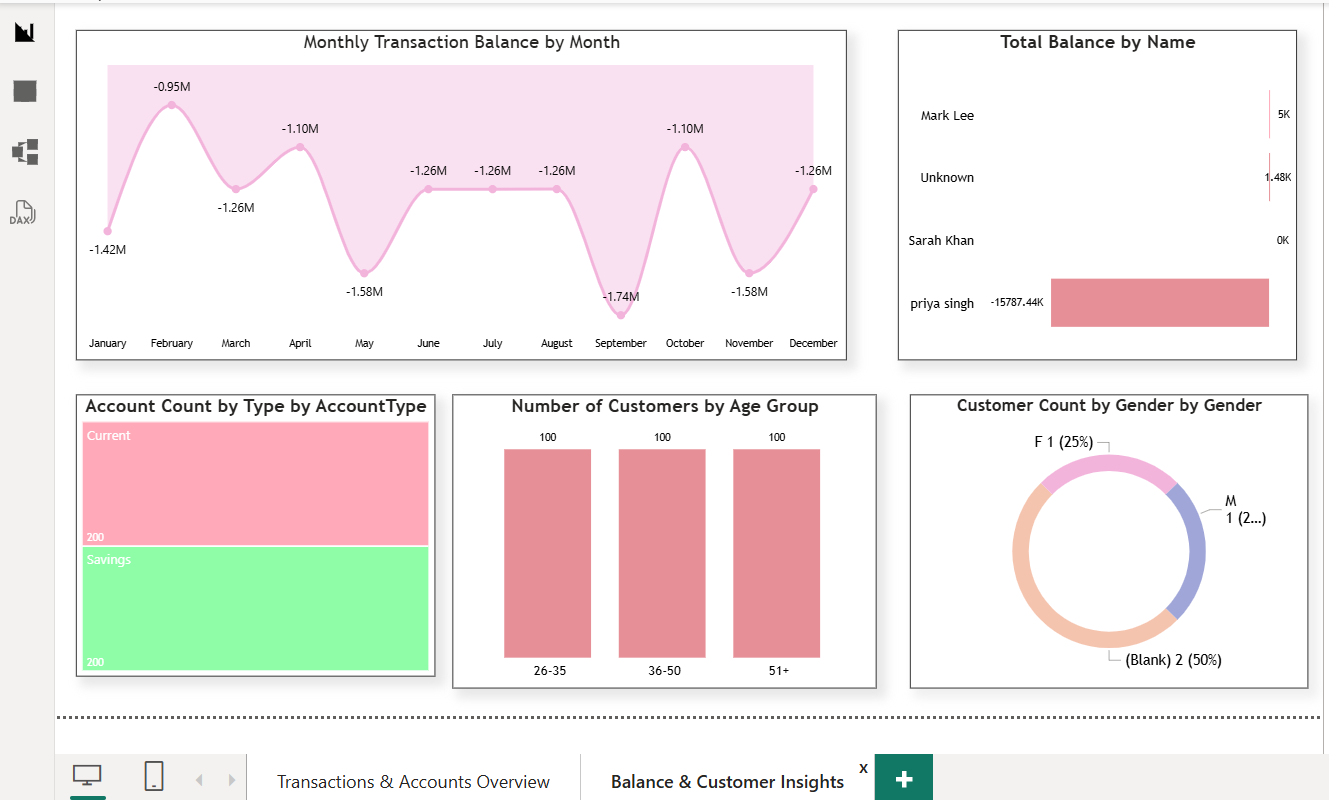

Layout of this report page (visuals, bound fields, positions):
{"tool":"powerbi","page":{"name":"Balance & Customer Insights","canvas":[1280,720],"ordinal":1},"visuals":[{"type":"donutChart","fields":{"Y":["Measures Table (2).Customer Count by Gender"],"Category":["CombinedBankingDataset.Gender"]},"box":[863.7,394.6,401.9,296.7],"z":0},{"type":"columnChart","title":"Number of Customers by Age Group","fields":{"Category":["CombinedBankingDataset.Customer Age Group"],"Y":["CountNonNull(CombinedBankingDataset.CustomerID)"]},"box":[401.9,394.6,428.2,296.7],"z":1000},{"type":"treemap","fields":{"Group":["CombinedBankingDataset.AccountType"],"Values":["Measures Table (2).Account Count by Type"]},"box":[21.9,394.6,362.4,285],"z":2000},{"type":"barChart","title":"Total Balance by Name","fields":{"Category":["CombinedBankingDataset.Name"],"Y":["Sum(CombinedBankingDataset.Balance)"]},"box":[851,27.3,402.8,333.1],"z":3000},{"type":"areaChart","fields":{"Category":["CombinedBankingDataset.TransactionDate.Variation.Date Hierarchy.Month"],"Y":["Measures Table (2).Monthly Transaction Balance"]},"box":[21.2,27.3,778.3,333.1],"z":4000}]}

Visuals, with their boxes on the page's 1280x720 design canvas (x1, y1, x2, y2). These are canvas units, not pixel positions in the 1329x800 screenshot, which may show the page scaled, cropped or inside an application window:
donutChart - Measures Table (2).Customer Count by Gender x CombinedBankingDataset.Gender: bbox=(864, 395, 1266, 691)
"Number of Customers by Age Group" columnChart: bbox=(402, 395, 830, 691)
treemap - CombinedBankingDataset.AccountType x Measures Table (2).Account Count by Type: bbox=(22, 395, 384, 680)
"Total Balance by Name" barChart: bbox=(851, 27, 1254, 360)
areaChart - CombinedBankingDataset.TransactionDate.Variation.Date Hierarchy.Month x Measures Table (2).Monthly Transaction Balance: bbox=(21, 27, 800, 360)
